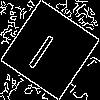I: (25, 25, 63, 71)
